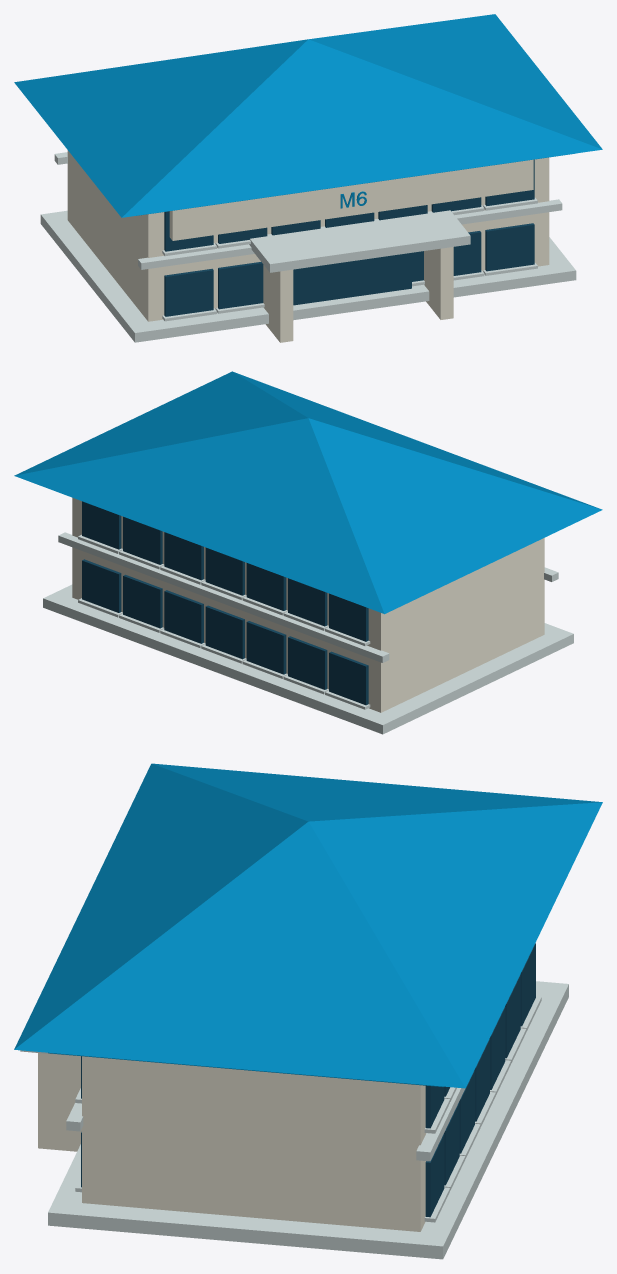
The model's file is mahad-m6.glb.
3 renders of one model, top to bottom at view 1: azimuth 30°, elevation 25°; view 2: azimuth 150°, elevation 25°; view 3: azimuth 270°, elevation 25°, orthographic. The views are drawn at different scales.
Visible parts, largest first — view 1: Mahad_M6_blue, Mahad_M6_ivory, Mahad_M6_trim, Mahad_M6_glass; view 2: Mahad_M6_blue, Mahad_M6_glass, Mahad_M6_ivory, Mahad_M6_trim; view 3: Mahad_M6_blue, Mahad_M6_ivory, Mahad_M6_trim, Mahad_M6_glass.
Part boxes in pixels (left/top/right/bottom): Mahad_M6_blue: left=14, top=14, right=602, bottom=217; Mahad_M6_ivory: left=67, top=150, right=549, bottom=342; Mahad_M6_trim: left=40, top=152, right=576, bottom=342; Mahad_M6_glass: left=164, top=159, right=534, bottom=316; Mahad_M6_blue: left=14, top=371, right=602, bottom=614; Mahad_M6_glass: left=82, top=501, right=368, bottom=705; Mahad_M6_ivory: left=72, top=497, right=544, bottom=712; Mahad_M6_trim: left=43, top=532, right=573, bottom=734; Mahad_M6_blue: left=14, top=763, right=602, bottom=1088; Mahad_M6_ivory: left=38, top=1053, right=426, bottom=1231; Mahad_M6_trim: left=20, top=981, right=568, bottom=1259; Mahad_M6_glass: left=81, top=943, right=535, bottom=1217.
Size of the model in its own units: 26.7 by 11.35 by 20.45.
